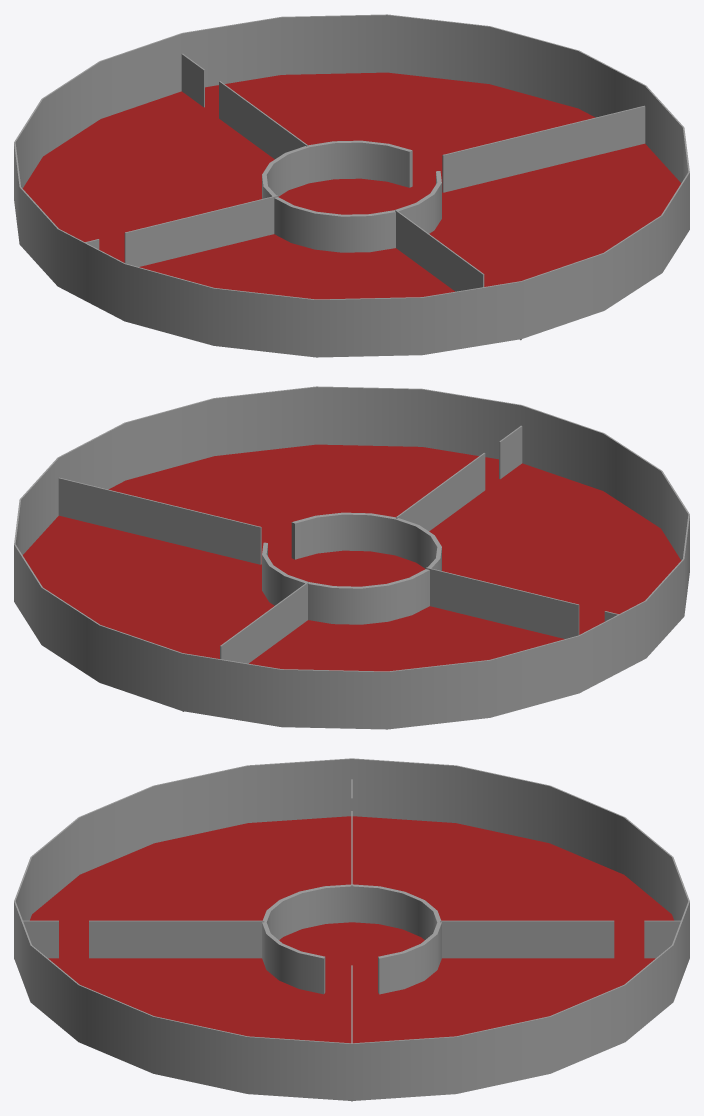
File: SampleLevel.fbx
3 views of the same model, one above another, from view 1: azimuth 30°, elevation 25°; view 2: azimuth 150°, elevation 25°; view 3: azimuth 270°, elevation 25° (orthographic).
Parts seen in each view (by area): view 1: pasted__pasted__pasted__pCube1; view 2: pasted__pasted__pasted__pCube1; view 3: pasted__pasted__pasted__pCube1.
Boxes of the visible parts, x1,y1,x2,y2 form: pasted__pasted__pasted__pCube1: [14, 14, 689, 357]; pasted__pasted__pasted__pCube1: [14, 386, 689, 729]; pasted__pasted__pasted__pCube1: [14, 758, 689, 1101].
Bounding box in the file's own units: 32.28 × 3.06 × 32.28.
